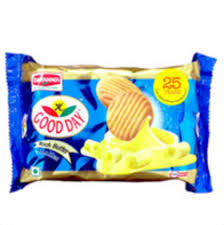gooday-medium: (10, 56, 204, 186)
